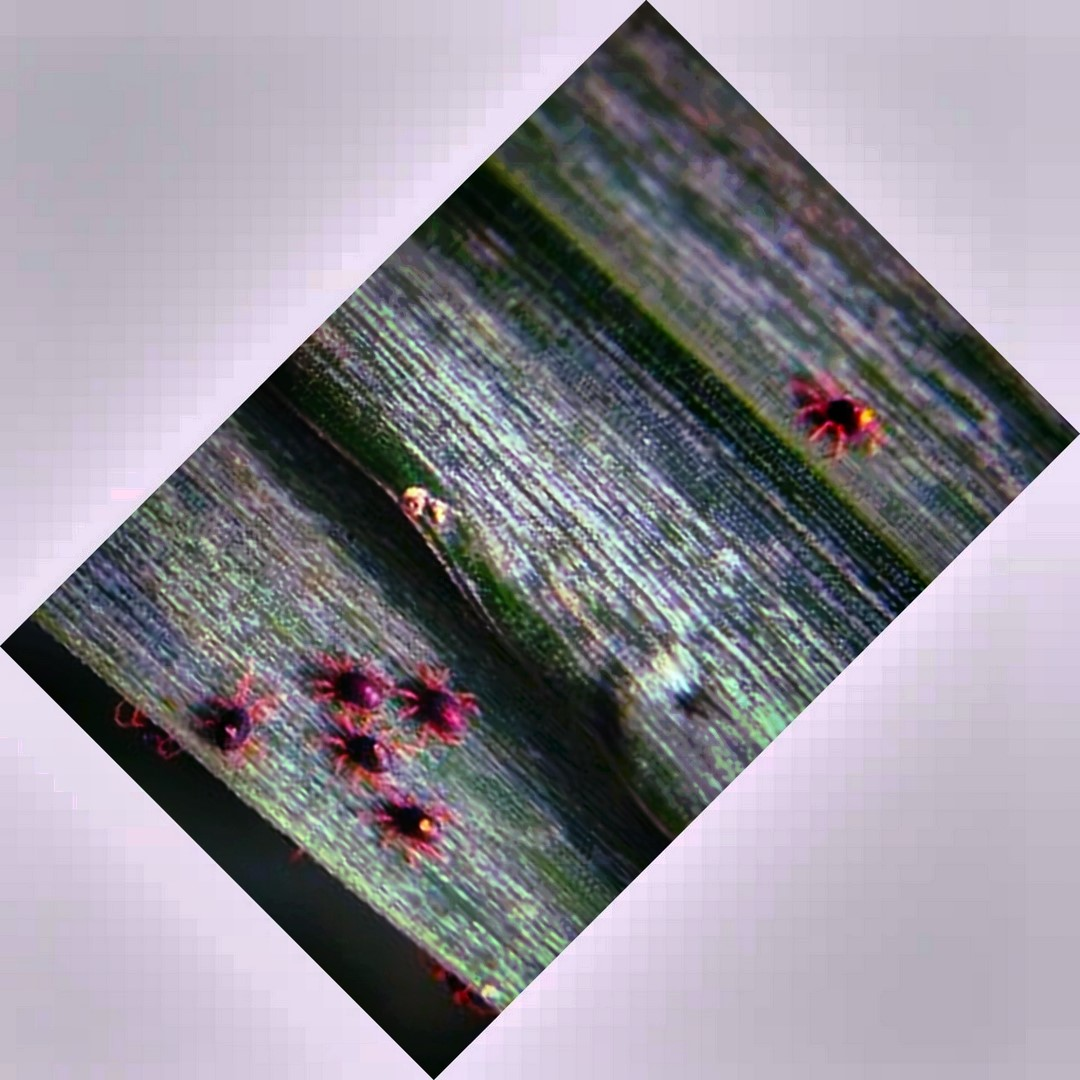Wheat Red Spider: (298, 639, 497, 870)
